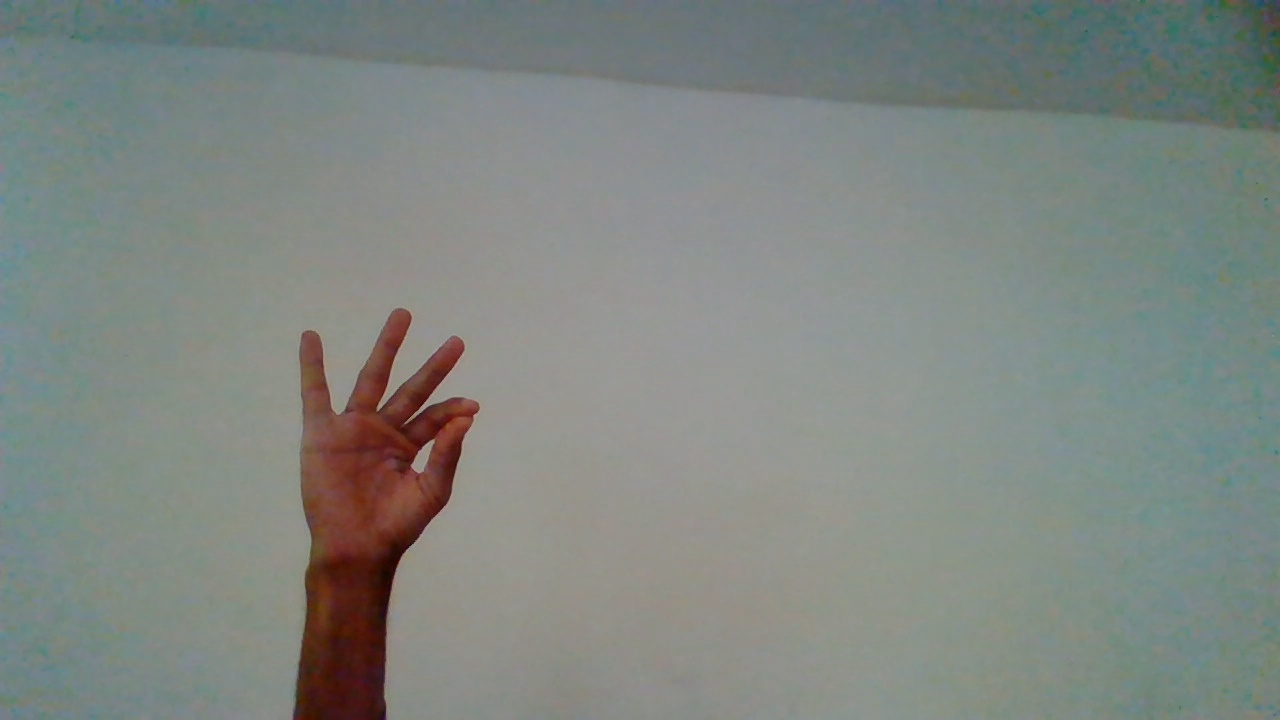le: (293, 309, 488, 711)
